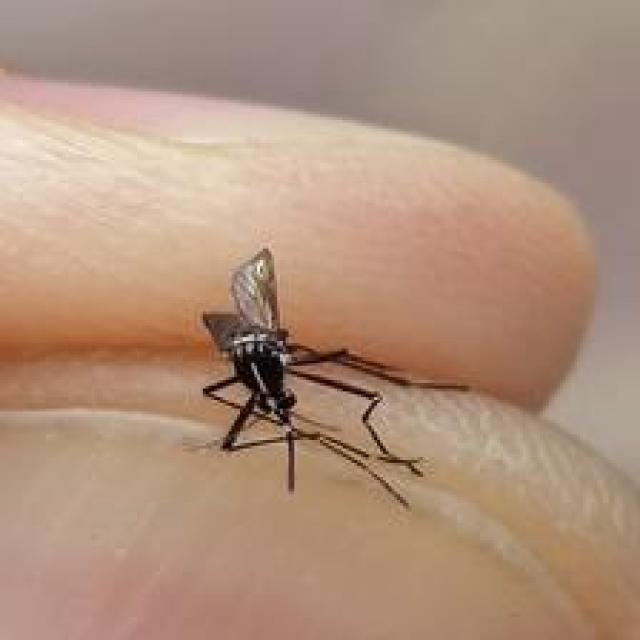Aedes albopictus: (196, 246, 470, 508)
